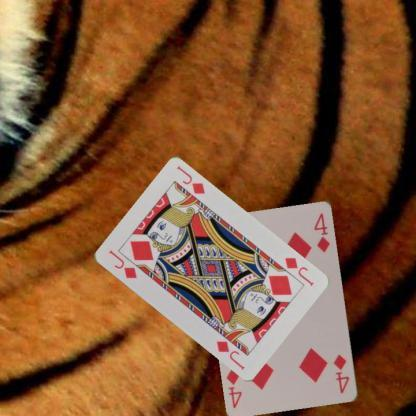4d: (331, 352, 351, 394)
Jd: (106, 247, 138, 280), (282, 254, 314, 287)
